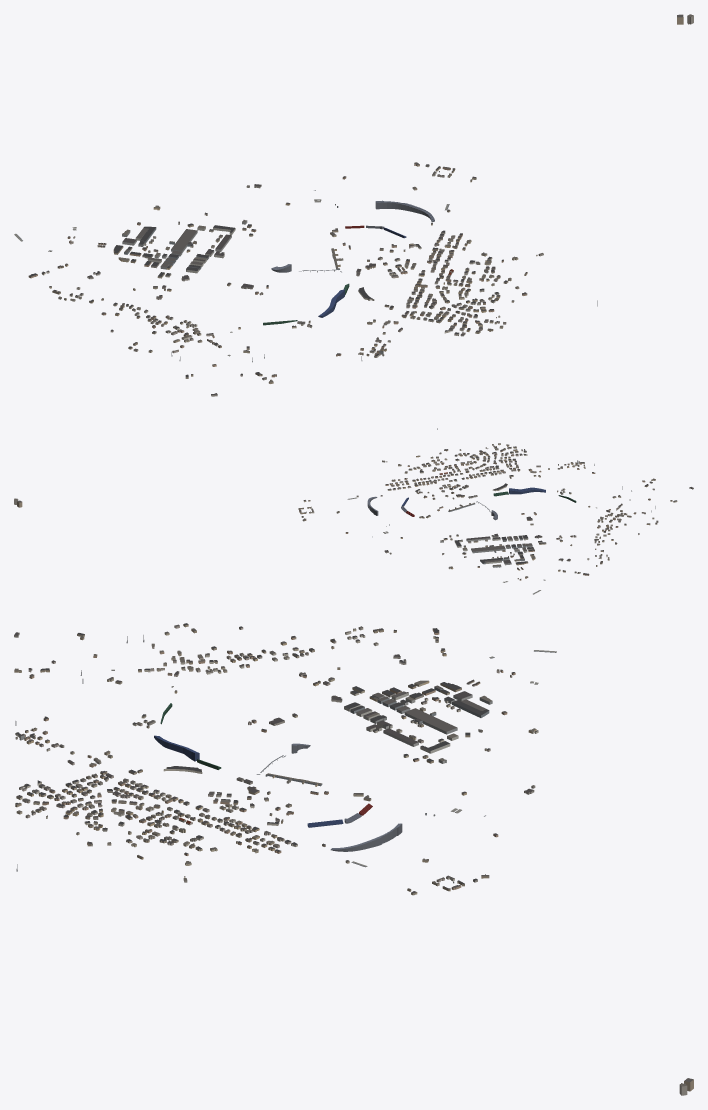
The model's file is scenery.glb.
3 renders of one model, top to bottom at view 1: azimuth 30°, elevation 25°; view 2: azimuth 150°, elevation 25°; view 3: azimuth 270°, elevation 25°, orthographic. The views are drawn at different scales.
Visible parts, largest first — view 1: chunk_15_16, chunk_13_14, chunk_15_15, chunk_13_13, chunk_12_15, chunk_15_17; view 2: chunk_15_16, chunk_13_14, chunk_15_15, chunk_14_16, chunk_13_13, chunk_12_15, chunk_15_17; view 3: chunk_15_16, chunk_13_14, chunk_15_15, chunk_13_13, chunk_15_17, chunk_12_15, chunk_14_16, chunk_16_15, chunk_16_16.
Part boxes in pixels (bbox=[...]): chunk_15_16: bbox=[406, 269, 498, 322]; chunk_13_14: bbox=[118, 229, 214, 291]; chunk_15_15: bbox=[335, 243, 449, 278]; chunk_13_13: bbox=[72, 222, 174, 254]; chunk_12_15: bbox=[101, 295, 198, 345]; chunk_15_17: bbox=[436, 309, 506, 336]; chunk_15_16: bbox=[437, 452, 518, 479]; chunk_13_14: bbox=[471, 535, 562, 560]; chunk_15_15: bbox=[415, 476, 477, 508]; chunk_14_16: bbox=[492, 466, 545, 494]; chunk_13_13: bbox=[477, 550, 528, 582]; chunk_12_15: bbox=[570, 515, 650, 545]; chunk_15_17: bbox=[479, 443, 527, 460]; chunk_15_16: bbox=[72, 775, 195, 830]; chunk_13_14: bbox=[313, 677, 457, 734]; chunk_15_15: bbox=[195, 777, 304, 829]; chunk_13_13: bbox=[430, 679, 538, 717]; chunk_15_17: bbox=[15, 780, 77, 819]; chunk_12_15: bbox=[191, 626, 314, 678]; chunk_14_16: bbox=[87, 735, 202, 778]; chunk_16_15: bbox=[195, 826, 297, 853]; chunk_16_16: bbox=[76, 826, 197, 882].
Size of the model in its own units: 3675 by 60.36 by 2292.
